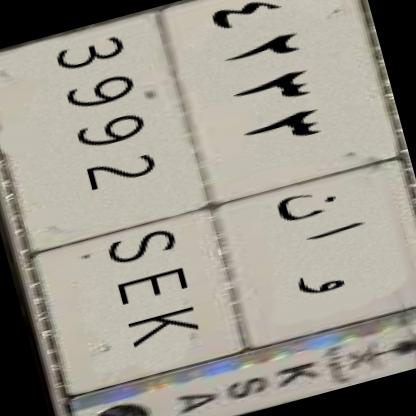english: (0, 6, 258, 411)
